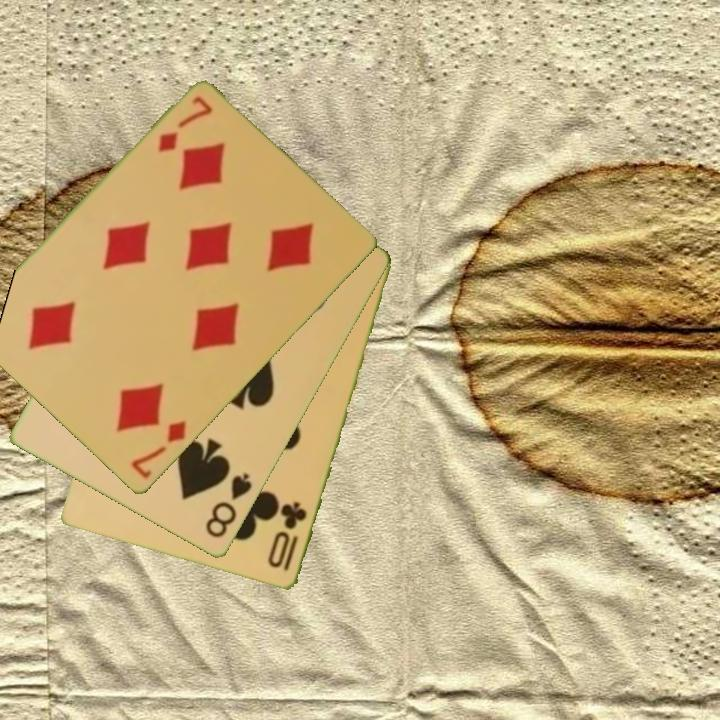10c: (265, 498, 310, 575)
7d: (127, 417, 189, 483), (154, 93, 216, 156)
8s: (202, 470, 256, 542)
